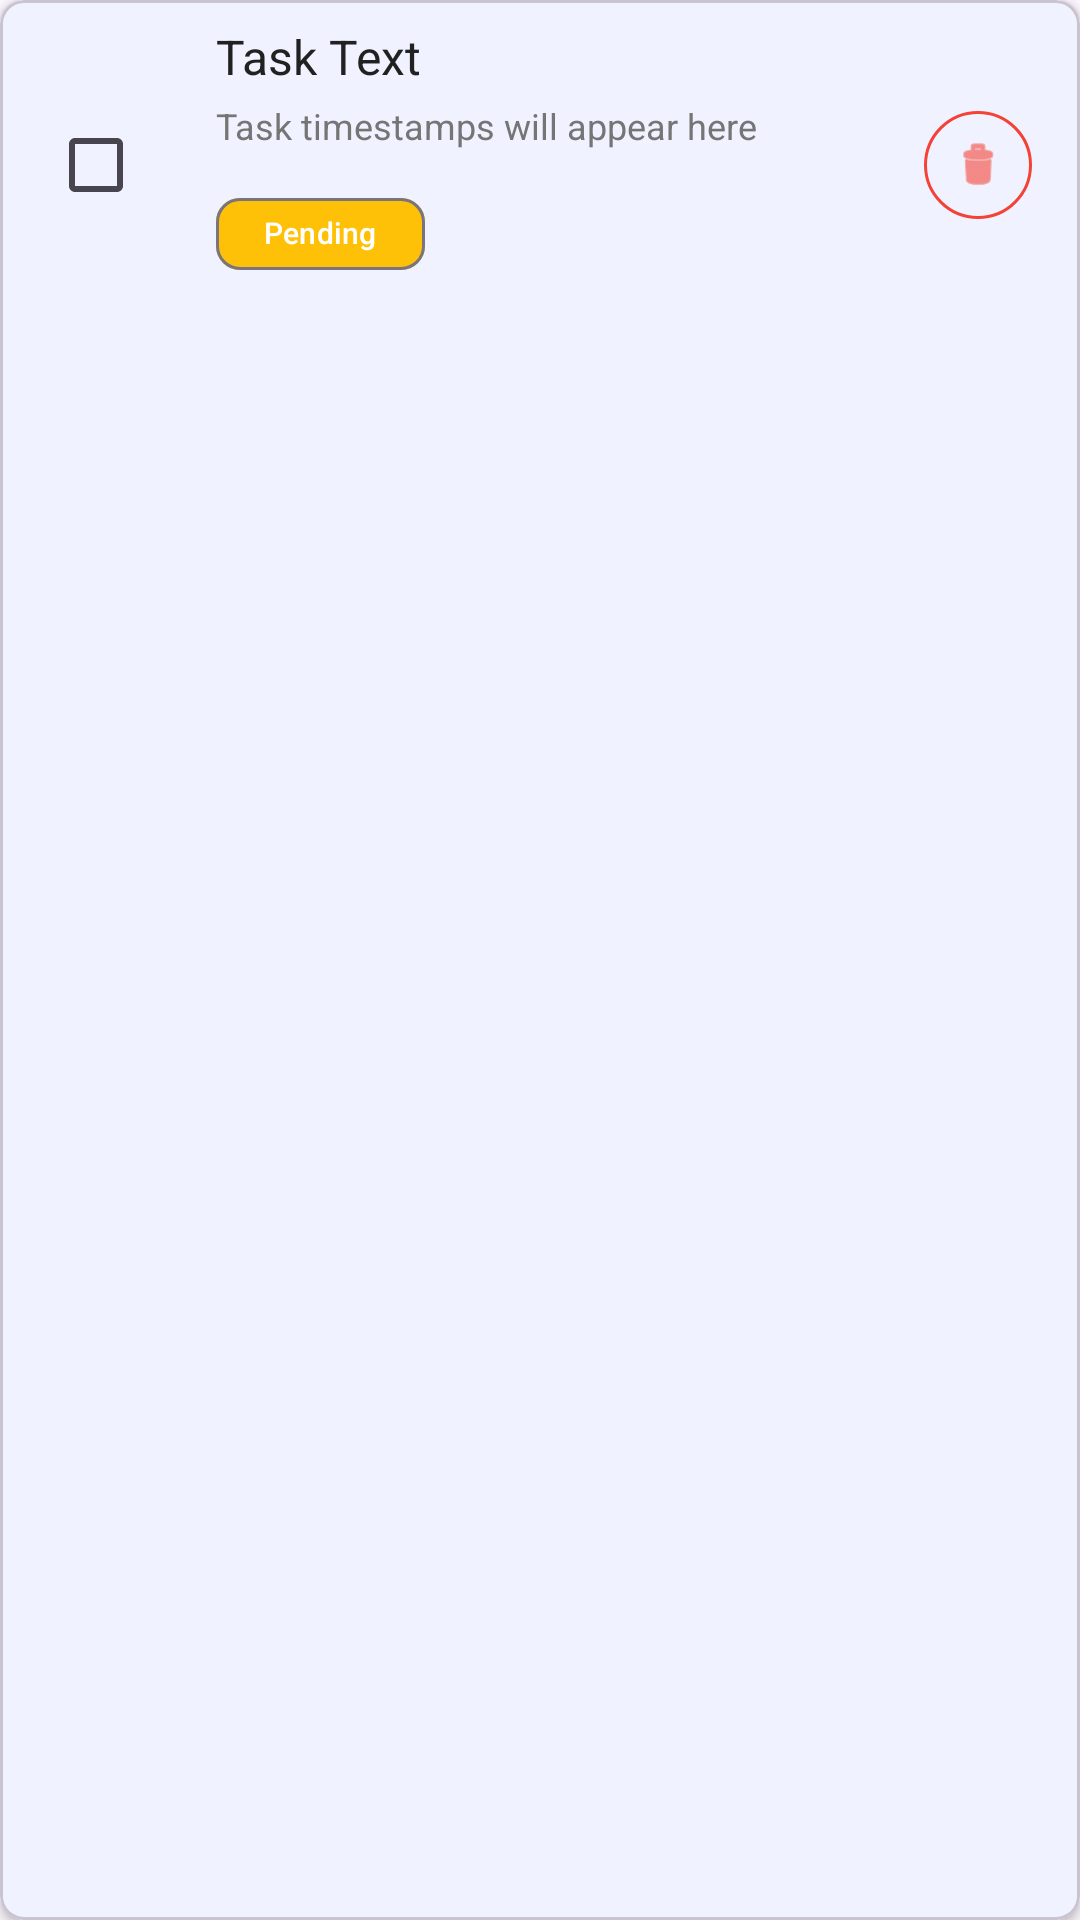

Point at icon controls on the screen. Image size 1080 × 1920, points as (x,y).
delete: (978,165)
